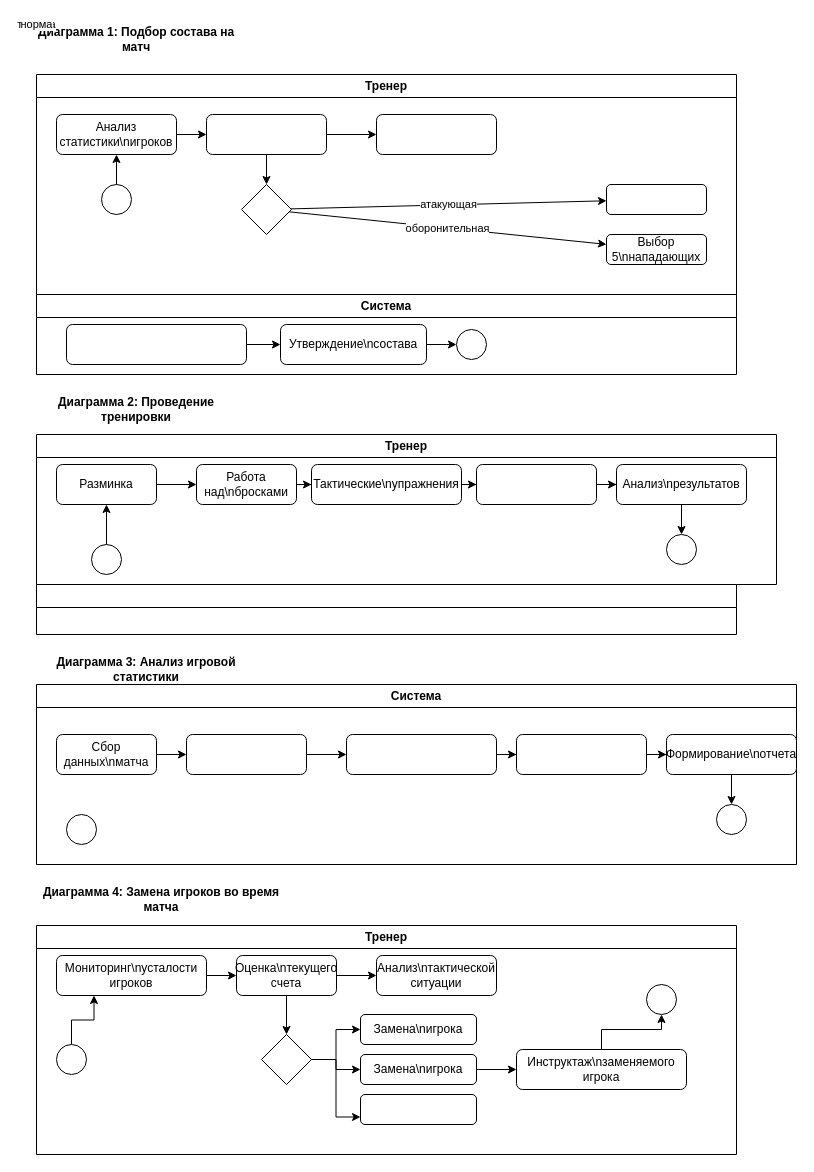
The diagram is 814 pixels wide and 1172 high, and some of its shapes have lost their labels. The shapes that lost their labels are listed below. From the top down, each one's centre as x and y in pixels, then its label:
At point 266,134: "Оценка текущей\nформы".
At point 436,134: "Учет тактики\nпротивника".
At point 656,199: "Выбор 7\nнападающих".
At point 156,344: "Формирование\nстартового состава".
At point 536,484: "Силовая\nподготовка".
At point 386,609: "Игроки".
At point 246,754: "Анализ бросков\nпо воротам".
At point 421,754: "Оценка эффективности\nпередач".
At point 581,754: "Сравнение с\nпредыдущими играми".
At point 418,1109: "Продолжение\nигры".
